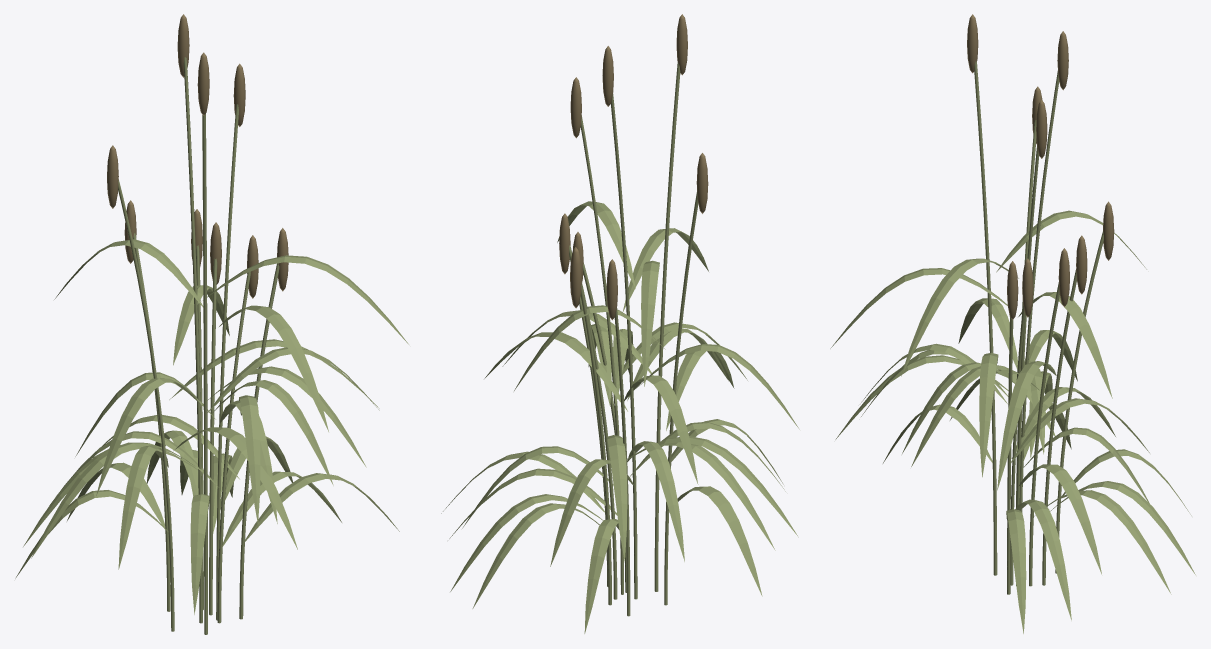
File: marsh_reeds.glb
3 views of the same model, side by side, from view 1: azimuth 30°, elevation 25°; view 2: azimuth 150°, elevation 25°; view 3: azimuth 270°, elevation 25° (orthographic). The views are drawn at different scales.
Parts seen in each view (by area): view 1: Curved reed stem.001, Curved reed stem.002, Curved reed stem.003, Curved reed stem.005, Sedge leaf.011, Sedge leaf.020, Sedge leaf.025, Curved reed stem, Sedge leaf.007, Sedge leaf.003, Curved reed stem.007, Sedge leaf.013 (+26 smaller); view 2: Curved reed stem.001, Curved reed stem.002, Sedge leaf.022, Sedge leaf.019, Sedge leaf.005, Curved reed stem.005, Curved reed stem.003, Sedge leaf.024, Sedge leaf.010, Sedge leaf.015, Curved reed stem.004, Sedge leaf.006 (+30 smaller); view 3: Curved reed stem.001, Sedge leaf.026, Sedge leaf.004, Sedge leaf.021, Sedge leaf.018, Curved reed stem.002, Sedge leaf.008, Sedge leaf.009, Curved reed stem, Sedge leaf, Curved reed stem.004, Curved reed stem.008 (+27 smaller).
Boxes of the visible parts, box(x1,y1,x2,y2) form: Curved reed stem.001: box(202, 113, 207, 634); Curved reed stem.002: box(183, 57, 202, 623); Curved reed stem.003: box(216, 104, 238, 620); Curved reed stem.005: box(118, 179, 174, 631); Sedge leaf.011: box(219, 305, 328, 431); Sedge leaf.020: box(238, 395, 260, 523); Sedge leaf.025: box(118, 445, 168, 569); Curved reed stem: box(209, 258, 217, 615); Sedge leaf.007: box(96, 378, 200, 495); Sedge leaf.003: box(190, 494, 209, 614); Curved reed stem.007: box(217, 271, 250, 623); Sedge leaf.013: box(31, 442, 194, 558); Curved reed stem.001: box(654, 62, 680, 591); Curved reed stem.002: box(611, 94, 637, 599); Sedge leaf.022: box(627, 441, 684, 561); Sedge leaf.019: box(606, 435, 627, 562); Sedge leaf.005: box(641, 260, 659, 386); Curved reed stem.005: box(664, 191, 698, 605); Curved reed stem.003: box(580, 115, 623, 594); Sedge leaf.024: box(584, 519, 628, 633); Sedge leaf.010: box(624, 375, 698, 484); Sedge leaf.015: box(668, 486, 762, 596); Curved reed stem.004: box(580, 283, 611, 605); Sedge leaf.006: box(550, 459, 633, 566); Curved reed stem.001: box(974, 61, 997, 575); Sedge leaf.026: box(997, 361, 1056, 490); Sedge leaf.004: box(979, 352, 998, 477); Sedge leaf.021: box(1015, 499, 1071, 620); Sedge leaf.018: box(1006, 509, 1026, 633); Curved reed stem.002: box(1019, 71, 1059, 512); Sedge leaf.008: box(901, 258, 1018, 376); Sedge leaf.009: box(1019, 464, 1101, 574); Curved reed stem: box(1029, 282, 1059, 586); Sedge leaf: box(1034, 490, 1171, 594); Curved reed stem.004: box(1042, 269, 1076, 585); Curved reed stem.008: box(1055, 231, 1103, 573).
Bounding box in the file's own units: 0.9121 × 1.39 × 0.8362.
